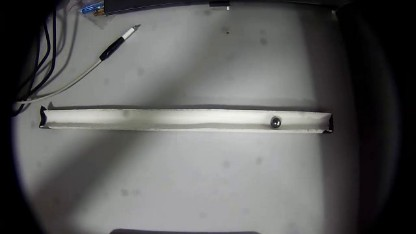gangzhu: (269, 115, 282, 129)
